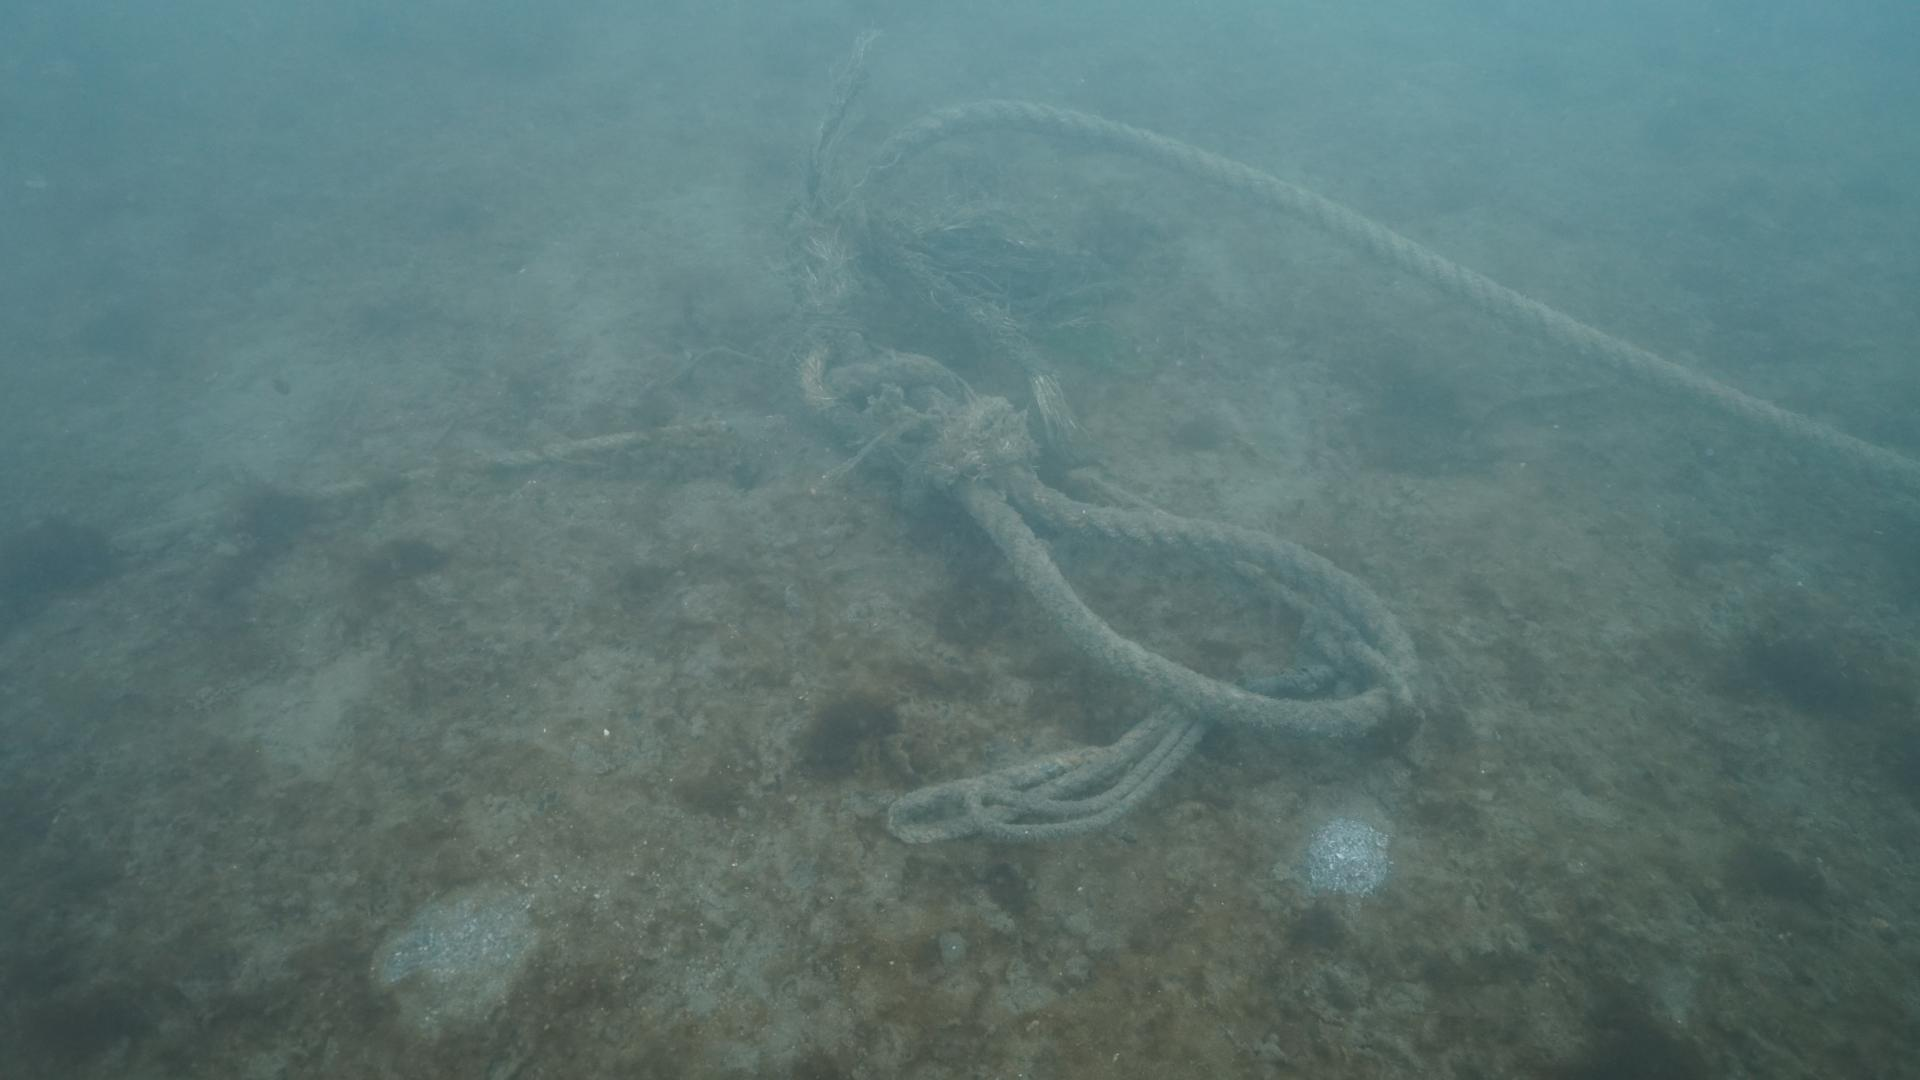bundle of ropes: (789, 94, 1920, 843)
